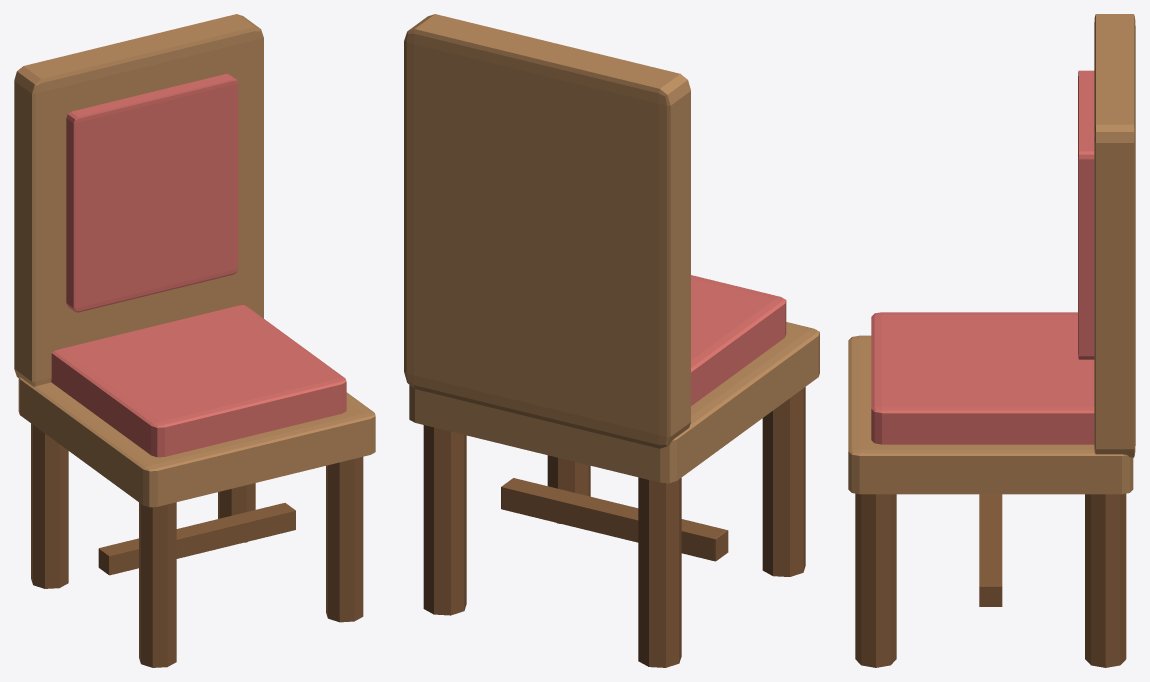
Rendered from chair.glb.
The picture shows the model from 3 angles, left to right: view 1: azimuth 30°, elevation 25°; view 2: azimuth 150°, elevation 25°; view 3: azimuth 270°, elevation 25°; orthographic projection. The views are drawn at different scales.
Parts seen in each view (by area): view 1: chair; view 2: chair; view 3: chair.
Part boxes in pixels (x1=…): chair: x1=14, y1=14, x2=375, y2=667; chair: x1=404, y1=14, x2=819, y2=667; chair: x1=848, y1=14, x2=1135, y2=667.
Bounding box in the file's own units: 0.62 × 1.3 × 0.625.
